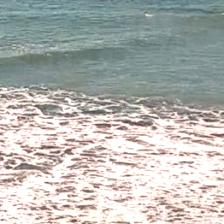surfer: (128, 0, 136, 3), (105, 0, 114, 2)
